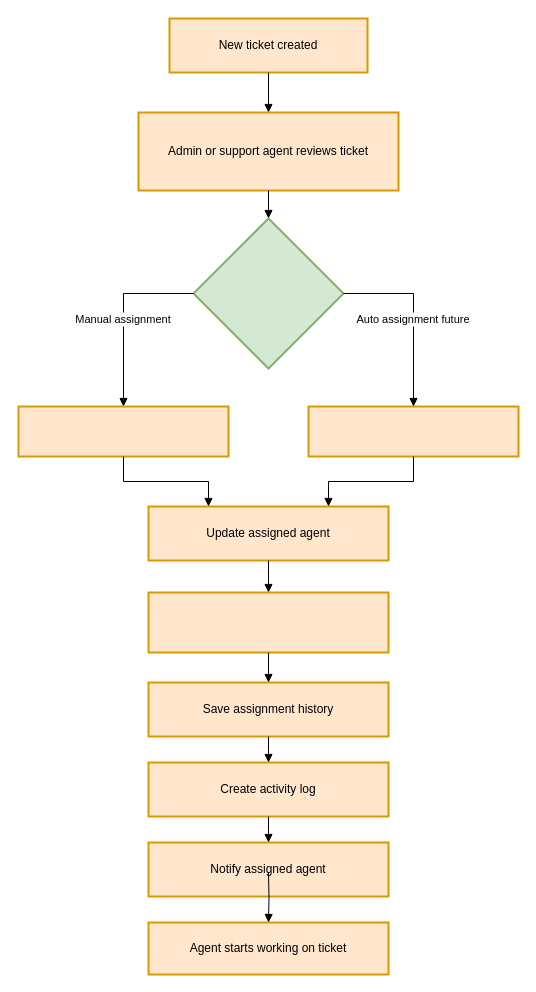
Some shapes in this 536 by 992 pixel diagram are drawn without their labels. Each missing label, with the centre of its shape:
"Assign ticket?" goes at pixel 268 293.
"Change status to In Progress" goes at pixel 268 622.
"Select support agent" goes at pixel 123 431.
"System suggests/assigns agent" goes at pixel 413 431.
